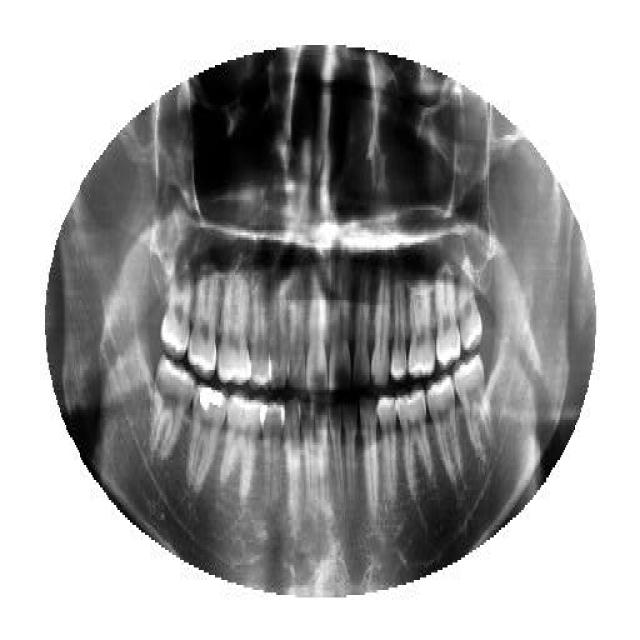Fillings: (186, 382, 225, 492)
